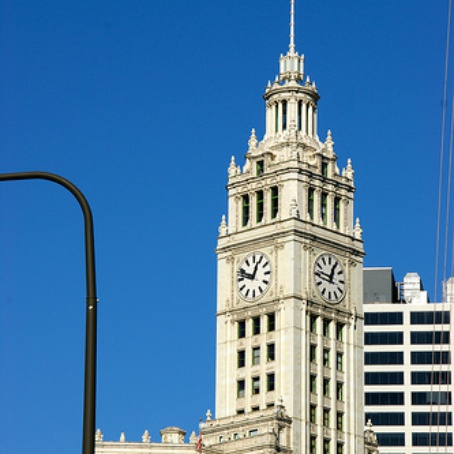building: (207, 7, 372, 451), (367, 276, 454, 453)
sky: (3, 1, 445, 443)
